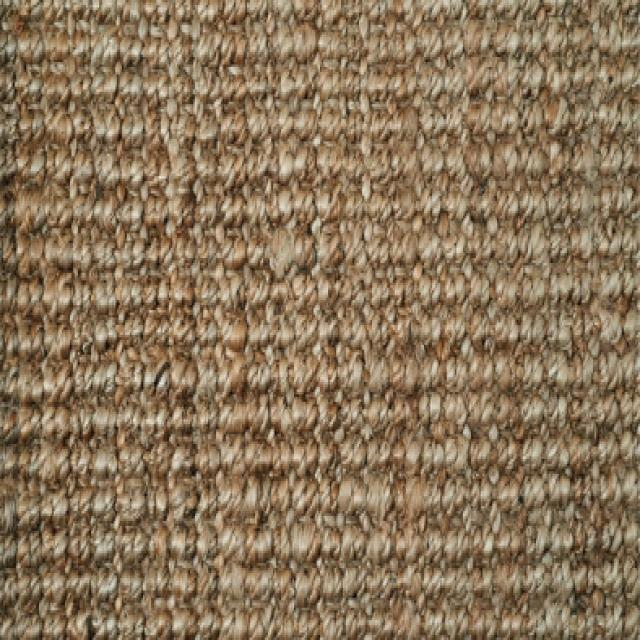Knot: (244, 94, 274, 146), (116, 474, 146, 520), (490, 130, 519, 175), (520, 130, 549, 175), (143, 344, 169, 392), (390, 126, 414, 177), (92, 429, 118, 476), (366, 468, 393, 513), (168, 474, 196, 517), (14, 268, 44, 308), (367, 516, 396, 557), (41, 478, 69, 520), (338, 427, 366, 469), (15, 354, 43, 396), (339, 346, 367, 388), (340, 302, 368, 344), (92, 20, 120, 62), (522, 469, 548, 514), (521, 220, 550, 260), (319, 218, 344, 264), (470, 598, 498, 639), (528, 594, 554, 638), (220, 516, 246, 560), (292, 346, 318, 390), (493, 266, 523, 304), (246, 518, 273, 560), (293, 516, 320, 558), (44, 352, 71, 394), (47, 264, 74, 306), (40, 436, 68, 476), (416, 135, 444, 175), (548, 468, 572, 514), (552, 208, 575, 256), (14, 398, 43, 436), (218, 304, 247, 342), (219, 472, 244, 516), (494, 428, 520, 470), (592, 424, 618, 466), (418, 308, 444, 350), (390, 220, 418, 259), (444, 216, 470, 258), (464, 134, 490, 176), (12, 226, 44, 260), (14, 144, 48, 176), (16, 104, 50, 136), (494, 558, 524, 594), (118, 522, 148, 558), (119, 432, 146, 472), (170, 345, 194, 390), (14, 184, 44, 220), (14, 526, 42, 564), (168, 518, 196, 556), (394, 474, 422, 512), (244, 430, 272, 468), (546, 386, 574, 424), (594, 132, 622, 170), (196, 346, 220, 390), (246, 474, 271, 516), (393, 348, 418, 390), (500, 598, 526, 638), (596, 256, 622, 296), (38, 565, 66, 602), (392, 265, 420, 302), (170, 304, 196, 343), (247, 346, 269, 392), (270, 344, 292, 390), (200, 98, 222, 144), (366, 132, 389, 176), (342, 514, 366, 556), (293, 429, 317, 471), (94, 346, 118, 388), (169, 224, 197, 260), (365, 216, 389, 258), (170, 110, 198, 146), (465, 93, 493, 129), (393, 594, 418, 634), (339, 472, 364, 512), (444, 470, 469, 510), (421, 430, 446, 470), (419, 350, 444, 390), (120, 343, 142, 388), (223, 346, 245, 391), (549, 305, 572, 348), (44, 396, 70, 434), (217, 394, 243, 432), (142, 304, 168, 342), (168, 154, 197, 188), (146, 431, 170, 472), (392, 396, 420, 431), (493, 221, 518, 260), (392, 311, 419, 347), (295, 222, 317, 266), (274, 94, 296, 138), (320, 88, 342, 132), (16, 438, 39, 480), (368, 346, 391, 388), (92, 599, 118, 636), (223, 598, 249, 635), (444, 602, 470, 639), (14, 485, 40, 522), (16, 315, 42, 352), (366, 594, 390, 634), (42, 522, 66, 562), (496, 474, 520, 514), (494, 348, 518, 388), (546, 345, 570, 385), (550, 260, 574, 300), (120, 106, 144, 146), (496, 520, 524, 554), (117, 266, 145, 300), (15, 24, 43, 58), (196, 26, 224, 60), (568, 20, 596, 54), (15, 564, 40, 602), (395, 430, 420, 468), (521, 388, 546, 426), (117, 304, 142, 342), (293, 306, 318, 344), (422, 264, 447, 302), (269, 224, 294, 262), (46, 186, 71, 224), (74, 184, 99, 222), (45, 59, 70, 97), (69, 432, 91, 475), (471, 428, 493, 471), (522, 423, 544, 466), (96, 100, 118, 143), (146, 599, 172, 635), (93, 562, 119, 598), (521, 346, 545, 385), (44, 311, 70, 347), (597, 214, 621, 253), (318, 135, 342, 174), (417, 98, 443, 134), (13, 66, 44, 96), (522, 309, 547, 346), (47, 101, 72, 138), (444, 518, 466, 560), (72, 349, 94, 391), (339, 392, 367, 425), (445, 302, 467, 344), (470, 264, 492, 306), (470, 216, 492, 258), (518, 182, 546, 215), (318, 26, 346, 59), (93, 478, 116, 518), (294, 475, 317, 515), (344, 136, 364, 182), (67, 562, 91, 600), (595, 474, 619, 512), (118, 66, 142, 104), (117, 393, 143, 428), (168, 393, 194, 428), (197, 473, 217, 518), (416, 182, 446, 212), (219, 150, 244, 186), (442, 561, 470, 593), (90, 526, 118, 558), (414, 24, 442, 56), (172, 560, 196, 597), (320, 560, 344, 597), (246, 147, 270, 184), (218, 434, 244, 468), (118, 224, 144, 258), (168, 30, 194, 64), (198, 596, 220, 636), (70, 478, 92, 518), (271, 472, 293, 512), (573, 470, 593, 514), (172, 431, 194, 471), (146, 106, 168, 146), (224, 98, 244, 142), (196, 520, 219, 558), (397, 518, 420, 556), (525, 264, 548, 302), (245, 186, 268, 224), (270, 184, 293, 222), (46, 227, 74, 258), (144, 562, 168, 598), (470, 556, 494, 592), (470, 474, 494, 510), (494, 306, 518, 342), (572, 310, 596, 346), (493, 92, 517, 128), (519, 94, 546, 126), (573, 54, 597, 90), (442, 22, 466, 58), (321, 516, 342, 557), (248, 304, 269, 345), (572, 132, 592, 175), (250, 600, 276, 633), (366, 433, 392, 466), (446, 431, 468, 470), (291, 268, 316, 302), (119, 190, 144, 224), (291, 391, 315, 426), (196, 302, 216, 344), (245, 266, 273, 296), (550, 135, 571, 175), (94, 390, 116, 428), (446, 353, 468, 391), (368, 305, 390, 343), (598, 308, 620, 346), (420, 222, 442, 260), (274, 144, 296, 182), (598, 56, 620, 94), (492, 20, 518, 52), (592, 592, 610, 638), (525, 558, 548, 594), (274, 514, 292, 560), (468, 522, 493, 555), (72, 307, 92, 348), (548, 558, 572, 592), (92, 308, 116, 342), (318, 270, 342, 304), (342, 268, 366, 302), (366, 268, 390, 302), (196, 190, 220, 224), (596, 94, 620, 128), (146, 393, 168, 430), (471, 349, 493, 386), (146, 149, 168, 186), (622, 305, 640, 350), (94, 150, 120, 181), (295, 561, 318, 596), (572, 596, 592, 636), (148, 476, 168, 516), (576, 254, 596, 294), (222, 30, 247, 62), (319, 472, 338, 514), (71, 392, 92, 430), (197, 148, 218, 186), (420, 600, 442, 636), (120, 561, 142, 597), (546, 428, 568, 464), (446, 395, 470, 428), (270, 306, 292, 342), (345, 220, 363, 264), (296, 140, 318, 176), (170, 66, 192, 102), (366, 60, 388, 96), (247, 563, 274, 592), (245, 394, 268, 428), (471, 390, 494, 424), (222, 190, 245, 224), (343, 182, 366, 216), (494, 179, 517, 213), (49, 144, 72, 178), (545, 58, 568, 92), (319, 306, 339, 345), (168, 192, 194, 222), (44, 25, 70, 55), (295, 183, 316, 220), (446, 133, 464, 176), (196, 392, 218, 427), (344, 56, 366, 91), (16, 606, 40, 638), (496, 392, 520, 424), (572, 351, 596, 383), (122, 151, 146, 183), (390, 63, 414, 95), (416, 60, 440, 92), (468, 54, 492, 86), (494, 57, 518, 89), (422, 520, 442, 558), (196, 432, 216, 470), (273, 430, 292, 470), (620, 428, 640, 466), (550, 523, 573, 556), (549, 95, 572, 128), (174, 600, 195, 636), (543, 18, 564, 54), (220, 63, 246, 92), (298, 602, 320, 636), (146, 190, 168, 224), (318, 180, 340, 214), (70, 22, 92, 56), (94, 64, 116, 98), (121, 601, 145, 632), (92, 230, 116, 261), (68, 522, 87, 561), (223, 227, 243, 264), (318, 429, 336, 470), (576, 211, 594, 252), (368, 396, 391, 428), (272, 60, 298, 88), (442, 58, 468, 86), (422, 394, 444, 427), (322, 600, 342, 636), (220, 562, 244, 592), (148, 520, 168, 556), (320, 348, 338, 388), (470, 306, 490, 342), (622, 254, 640, 294), (246, 226, 266, 262), (100, 184, 118, 224), (390, 96, 414, 126), (574, 92, 594, 128), (599, 18, 620, 52), (520, 59, 543, 90), (526, 523, 548, 555), (595, 388, 617, 420), (598, 350, 620, 382), (472, 176, 494, 208), (74, 108, 96, 140), (144, 68, 166, 100), (146, 34, 168, 66), (366, 97, 388, 129), (444, 95, 466, 127), (299, 97, 318, 134), (40, 609, 66, 636), (572, 424, 590, 463), (198, 560, 218, 595), (145, 270, 168, 300), (367, 183, 390, 213), (196, 62, 219, 92), (554, 598, 572, 636), (424, 472, 442, 510), (622, 472, 640, 510), (74, 270, 94, 304), (95, 272, 116, 304), (148, 226, 169, 258), (72, 152, 96, 180), (575, 179, 598, 208), (622, 92, 640, 129), (68, 606, 90, 636), (344, 560, 364, 593), (318, 393, 338, 426), (221, 270, 243, 300), (448, 180, 470, 210), (296, 26, 318, 56), (520, 24, 542, 54), (392, 26, 413, 57), (170, 273, 195, 299), (344, 602, 362, 638), (573, 554, 591, 590), (449, 265, 467, 301), (345, 94, 363, 130), (623, 134, 640, 172), (617, 186, 640, 214), (245, 62, 268, 90), (624, 555, 640, 595), (550, 179, 572, 208), (72, 69, 94, 98), (619, 354, 640, 384), (575, 390, 594, 423), (278, 603, 298, 634), (196, 270, 218, 298), (198, 226, 220, 254), (367, 30, 389, 58), (74, 226, 92, 260), (622, 216, 640, 250), (273, 28, 294, 57), (248, 30, 268, 60), (272, 394, 290, 426), (392, 186, 416, 210), (468, 22, 486, 54), (621, 390, 640, 420), (610, 598, 624, 638), (320, 60, 340, 88), (625, 516, 640, 553), (625, 602, 640, 638), (380, 560, 398, 590), (622, 57, 640, 87), (400, 560, 420, 586), (276, 564, 294, 592), (272, 274, 290, 301), (600, 184, 616, 214), (120, 36, 140, 60), (608, 556, 622, 590), (349, 26, 365, 55), (300, 62, 318, 87), (593, 524, 609, 552), (422, 566, 440, 590), (594, 556, 606, 592), (366, 563, 380, 593), (621, 22, 640, 44), (574, 528, 590, 552), (612, 522, 624, 552)
